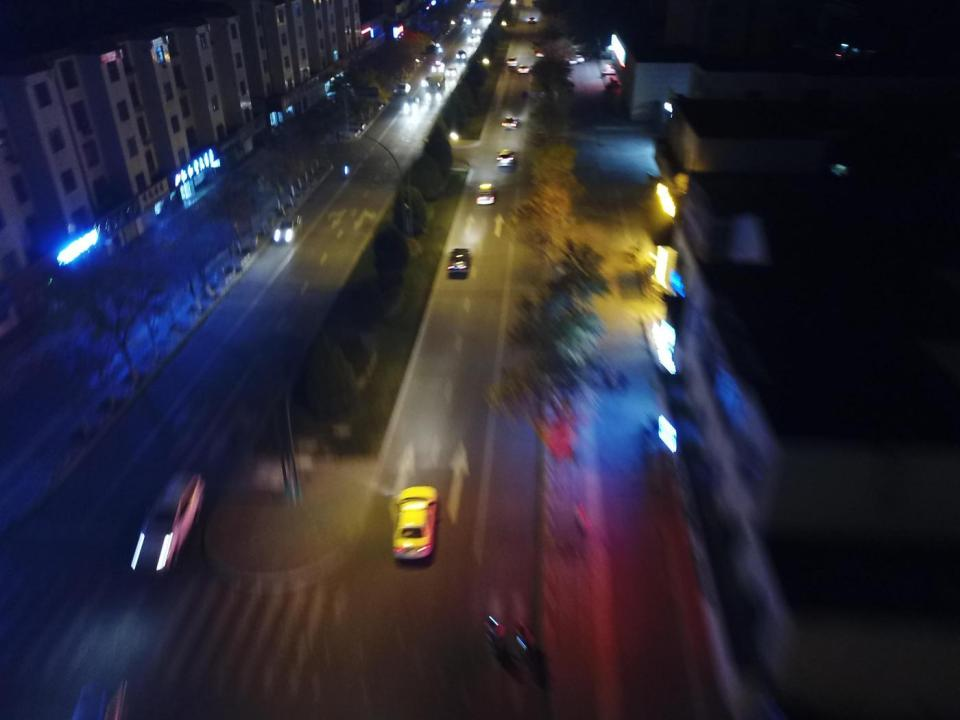bus: (426, 76, 445, 93)
car: (390, 483, 438, 560), (72, 679, 130, 720), (446, 247, 470, 274), (275, 218, 299, 242), (476, 182, 494, 206), (497, 145, 516, 166), (502, 111, 518, 130), (394, 83, 410, 95), (519, 62, 531, 74), (406, 99, 418, 111), (504, 56, 516, 67), (432, 61, 445, 71), (562, 55, 575, 64), (570, 53, 583, 62), (456, 49, 466, 60), (535, 46, 544, 57), (446, 67, 456, 76), (421, 38, 435, 44), (468, 36, 478, 44), (483, 9, 492, 16), (527, 16, 537, 22), (472, 27, 480, 33), (483, 17, 490, 23)
van: (133, 470, 200, 570)
